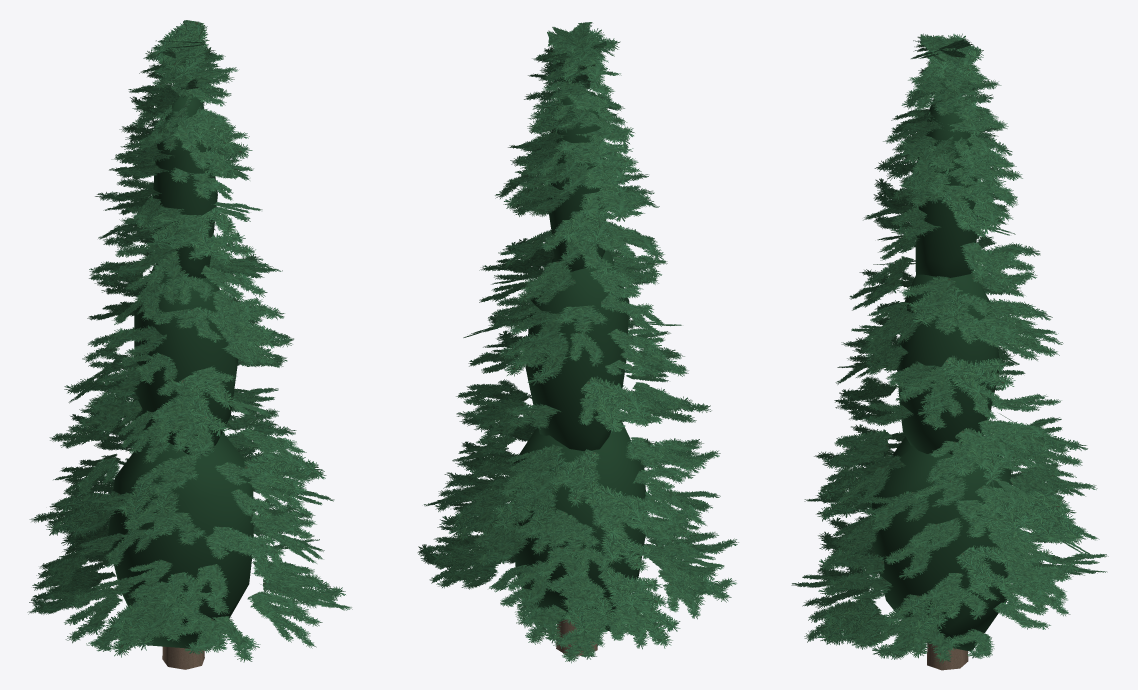
The model's file is PICEA_1.glb.
3 renders of one model, left to right at view 1: azimuth 30°, elevation 25°; view 2: azimuth 150°, elevation 25°; view 3: azimuth 270°, elevation 25°, orthographic.
Visible parts, largest first — view 1: Arv_PICEA_lod1; view 2: Arv_PICEA_lod1; view 3: Arv_PICEA_lod1.
Part boxes in pixels (x1,y1,x2,y2): Arv_PICEA_lod1: (27, 20, 352, 669); Arv_PICEA_lod1: (417, 22, 738, 663); Arv_PICEA_lod1: (791, 33, 1108, 670).
Size of the model in its own units: 5.17 by 10.3 by 5.05.
3 materials, 2 textured.
